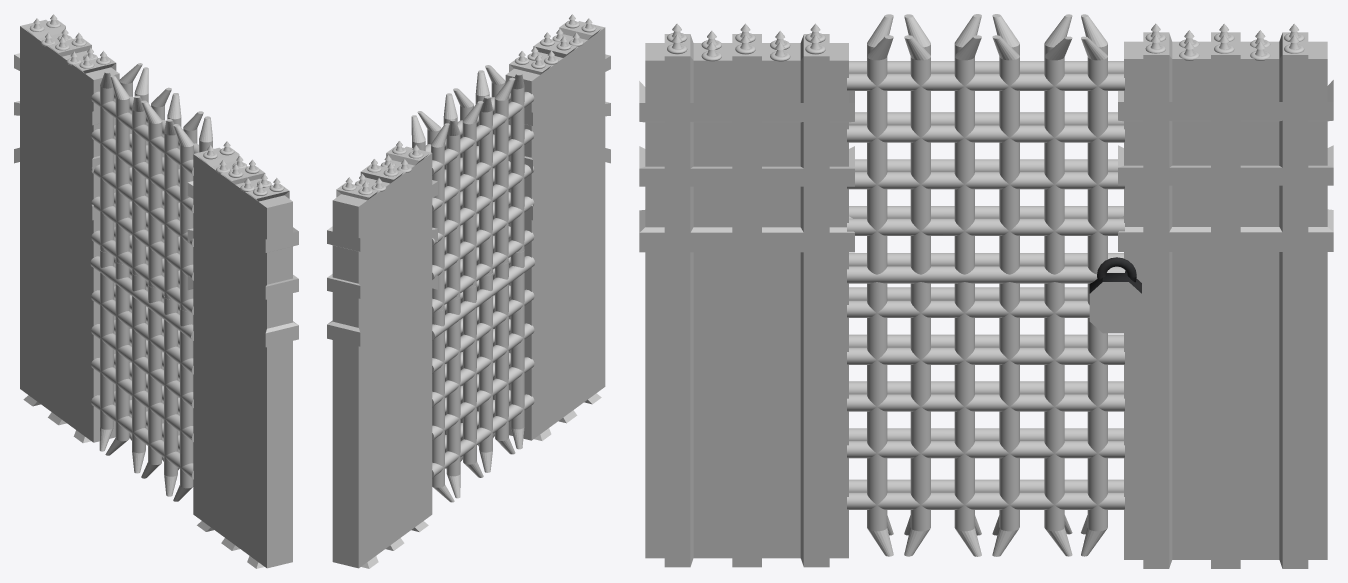
The model's file is Gate (1).fbx.
3 renders of one model, left to right at view 1: azimuth 30°, elevation 25°; view 2: azimuth 150°, elevation 25°; view 3: azimuth 270°, elevation 25°, orthographic. The views are drawn at different scales.
Parts seen in each view (by area): view 1: polySurface3, polySurface13, polySurface4, polySurface29; view 2: polySurface4, polySurface13, polySurface3, polySurface29; view 3: polySurface13, polySurface3, polySurface4, polySurface29, pCylinder2.
Part boxes in pixels (bbox=[...]): polySurface3: bbox=[187, 147, 298, 568]; polySurface13: bbox=[90, 63, 212, 501]; polySurface4: bbox=[14, 19, 119, 443]; polySurface29: bbox=[29, 14, 284, 195]; polySurface4: bbox=[327, 146, 437, 568]; polySurface13: bbox=[411, 65, 535, 502]; polySurface3: bbox=[505, 20, 610, 440]; polySurface29: bbox=[342, 14, 596, 194]; polySurface13: bbox=[847, 14, 1124, 556]; polySurface3: bbox=[639, 34, 854, 567]; polySurface4: bbox=[1118, 32, 1333, 568]; polySurface29: bbox=[667, 23, 1304, 61]; pCylinder2: bbox=[1089, 257, 1141, 333].
Size of the model in its own units: 5.92 by 43.91 by 51.85.
